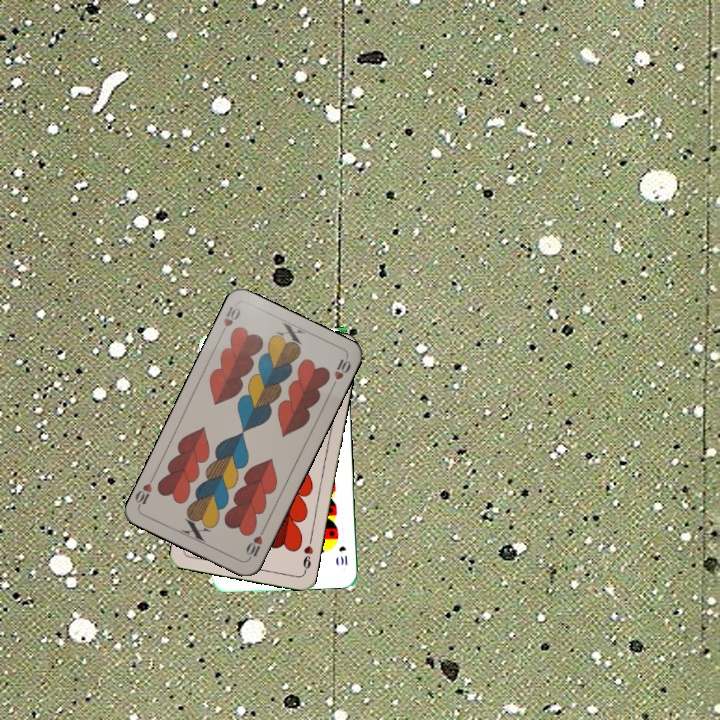H10: (216, 302, 243, 339), (242, 524, 268, 562)
H9: (299, 534, 316, 575)
S10: (335, 542, 350, 568)
